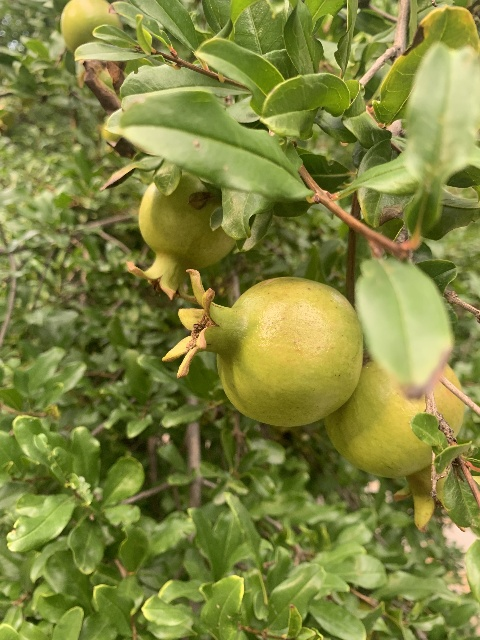mid-growth: (162, 268, 363, 426), (323, 361, 466, 532), (125, 170, 237, 301), (60, 0, 122, 53)
